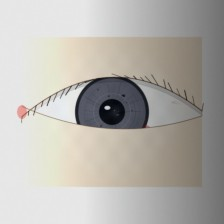hemorrhage_spot: (75, 84, 156, 148)
